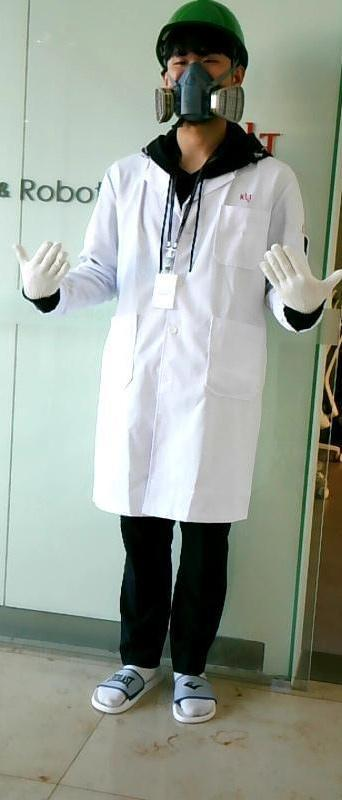lab_coat: (91, 149, 272, 500)
